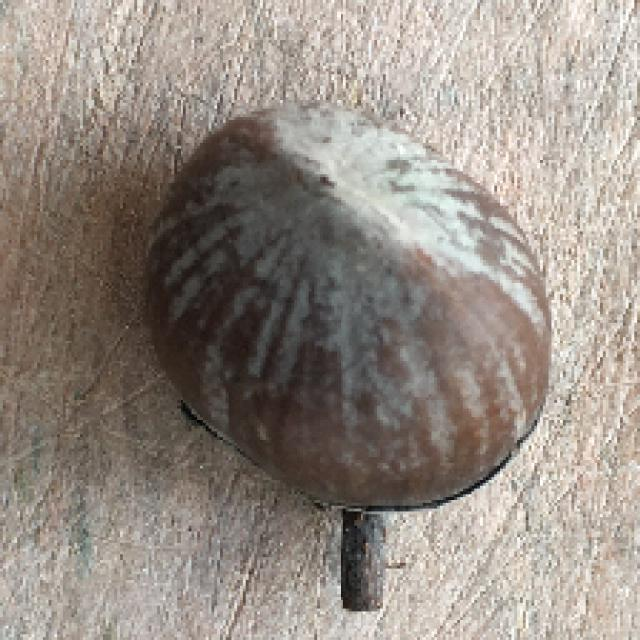damagedHazelnut: (134, 93, 557, 599)
